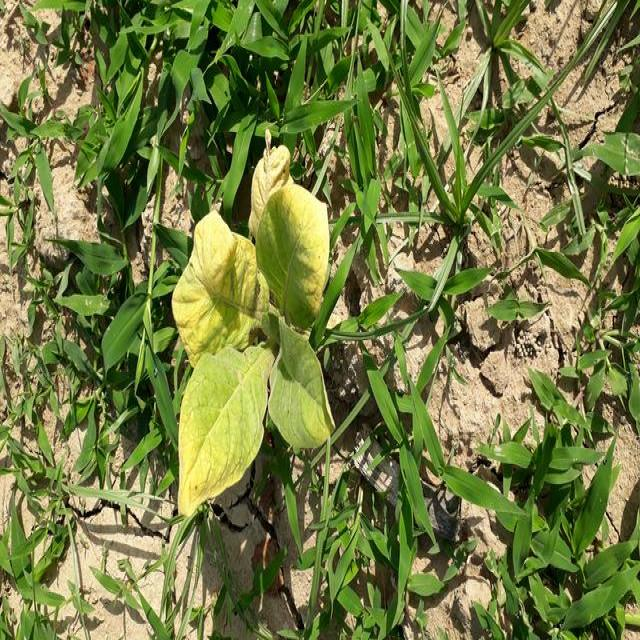crop: (175, 136, 332, 517)
